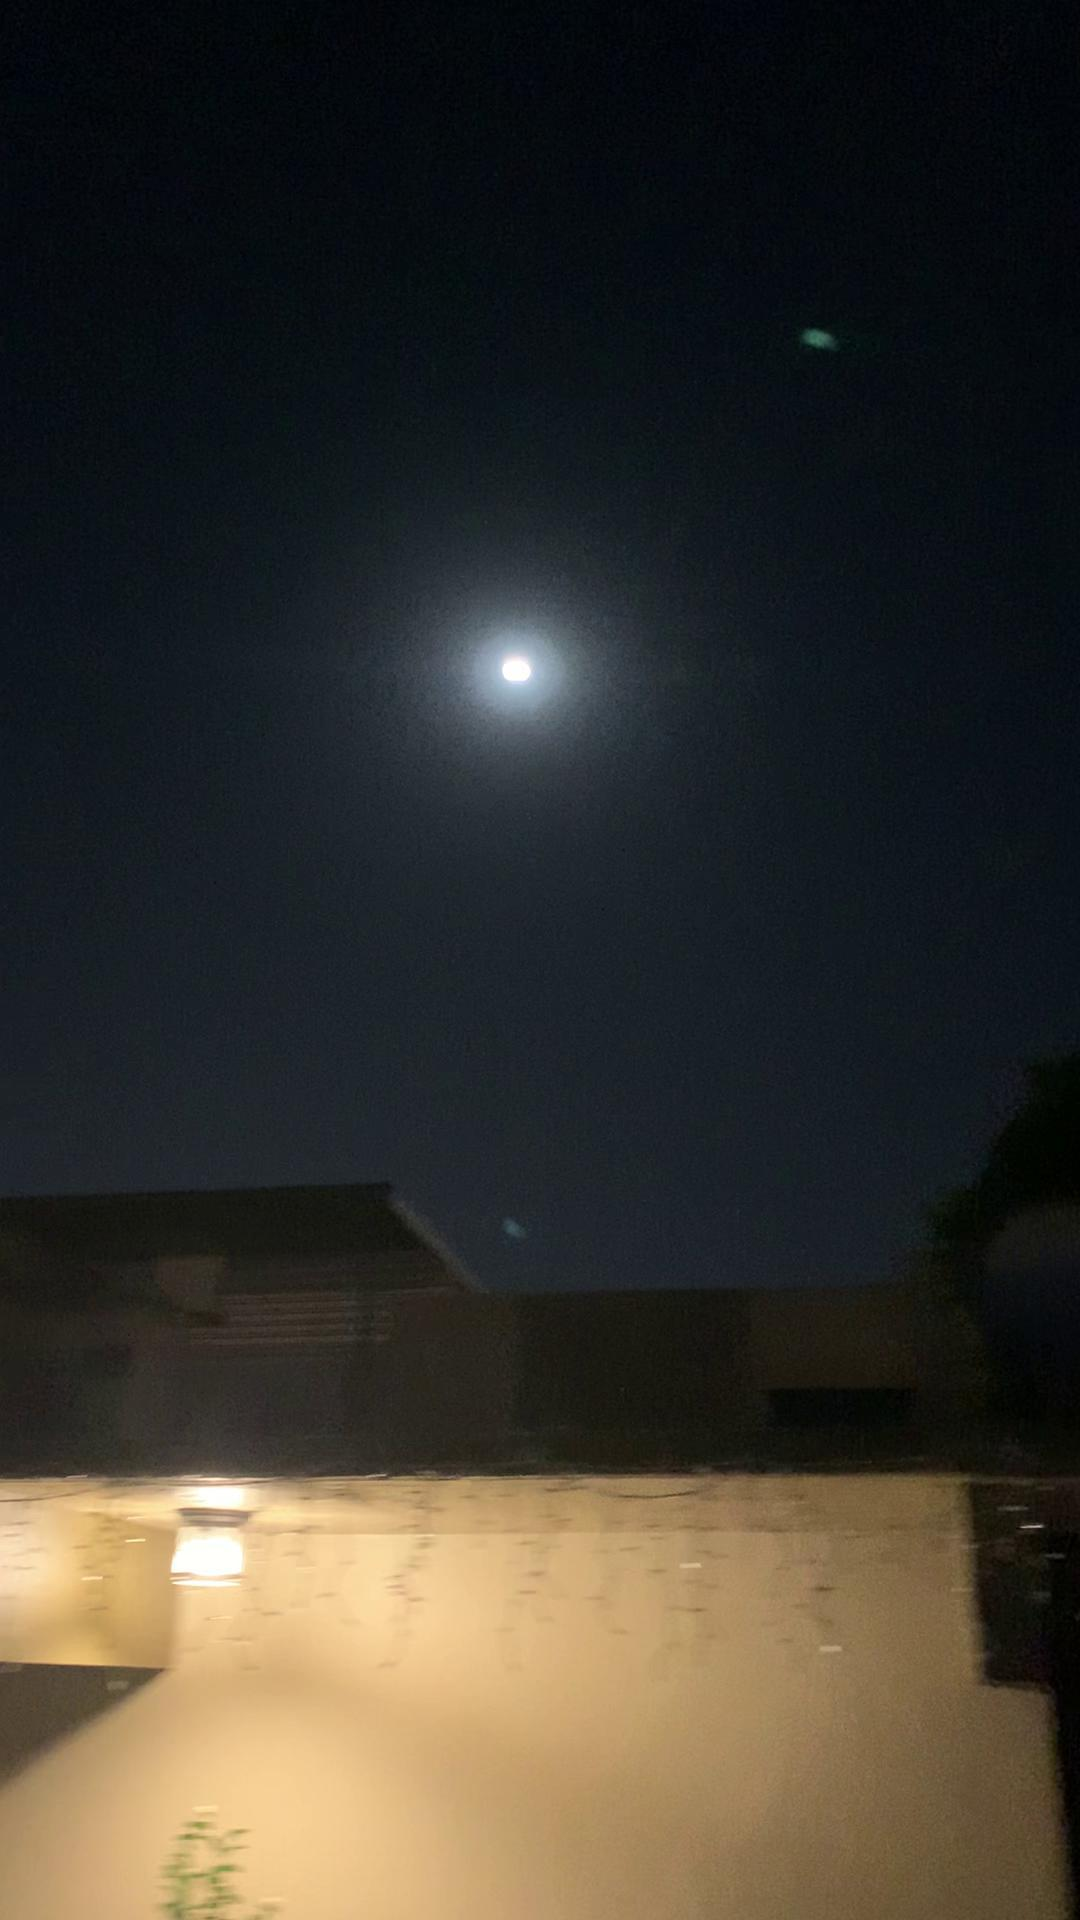moon: (481, 626, 568, 705)
